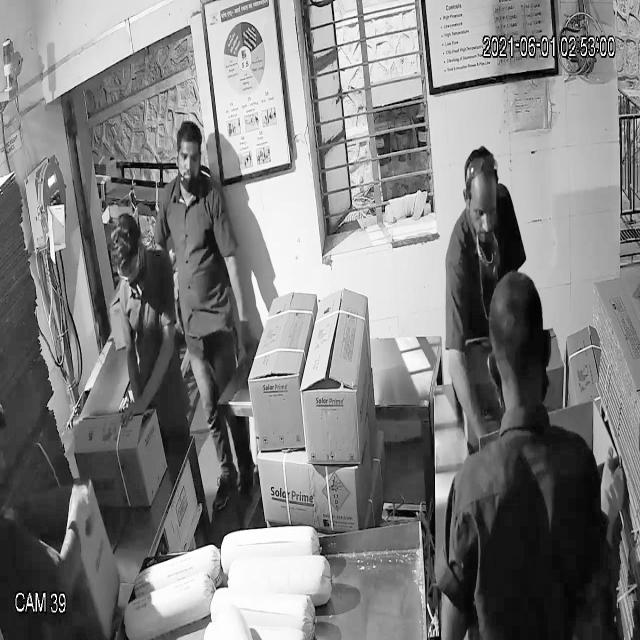glasses: (108, 245, 147, 290)
no-glass: (458, 186, 503, 227)
